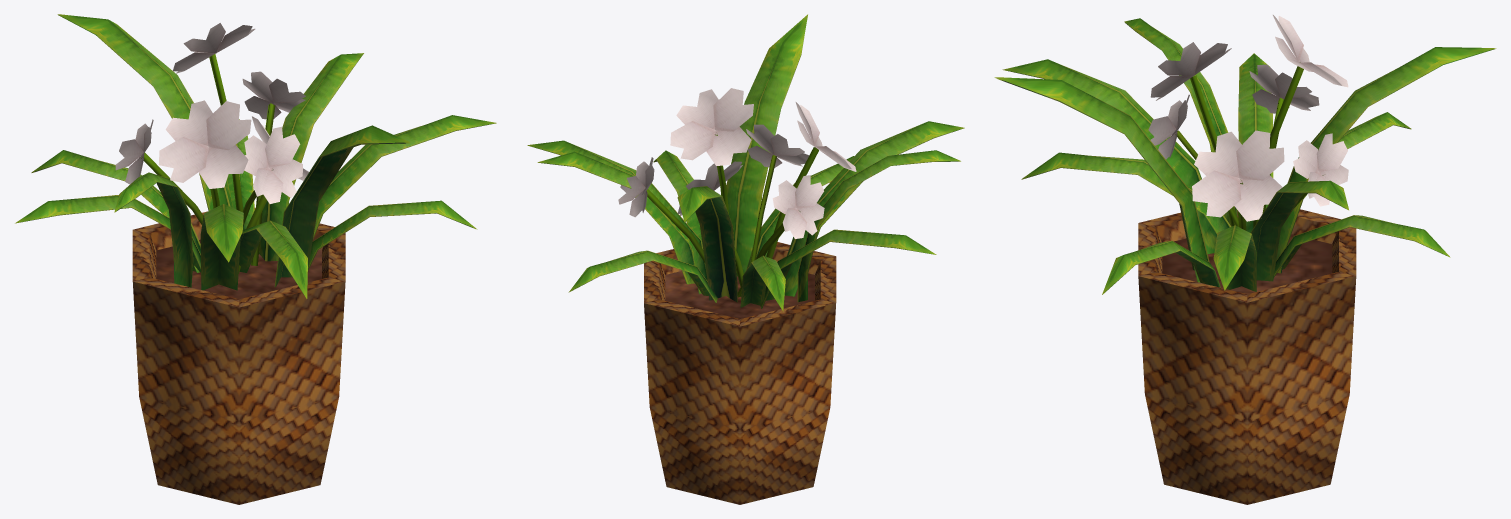
The model's file is ETC0610023.fbx.
3 views of the same model, side by side, from view 1: azimuth 30°, elevation 25°; view 2: azimuth 150°, elevation 25°; view 3: azimuth 270°, elevation 25° (orthographic). The views are drawn at different scales.
Parts seen in each view (by area): view 1: smETC0610023; view 2: smETC0610023; view 3: smETC0610023.
Part boxes in pixels (x1,y1,x2,y2): smETC0610023: [15, 14, 496, 504]; smETC0610023: [527, 14, 964, 504]; smETC0610023: [994, 15, 1496, 504].
Bounding box in the file's own units: 68.56 × 60.54 × 62.14.
1 material, 1 textured.
